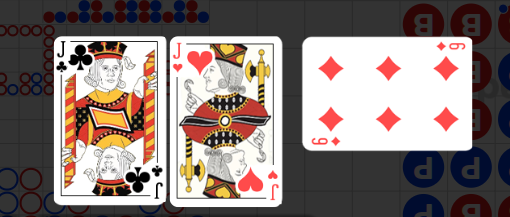6D: (435, 41, 467, 53), (311, 136, 342, 147)
JC: (150, 163, 166, 200)
